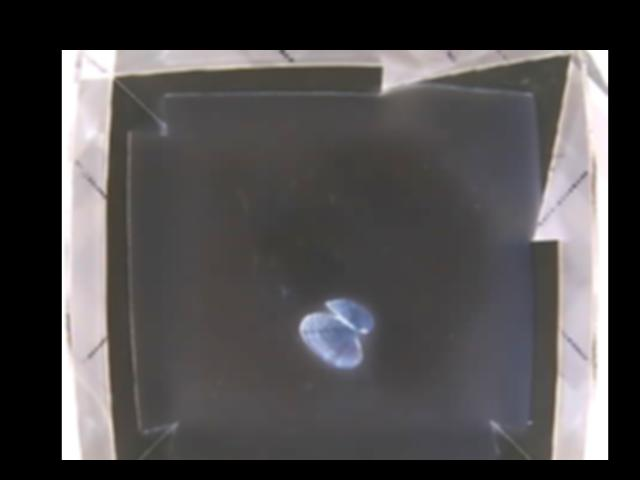Shell: (299, 301, 373, 366)
